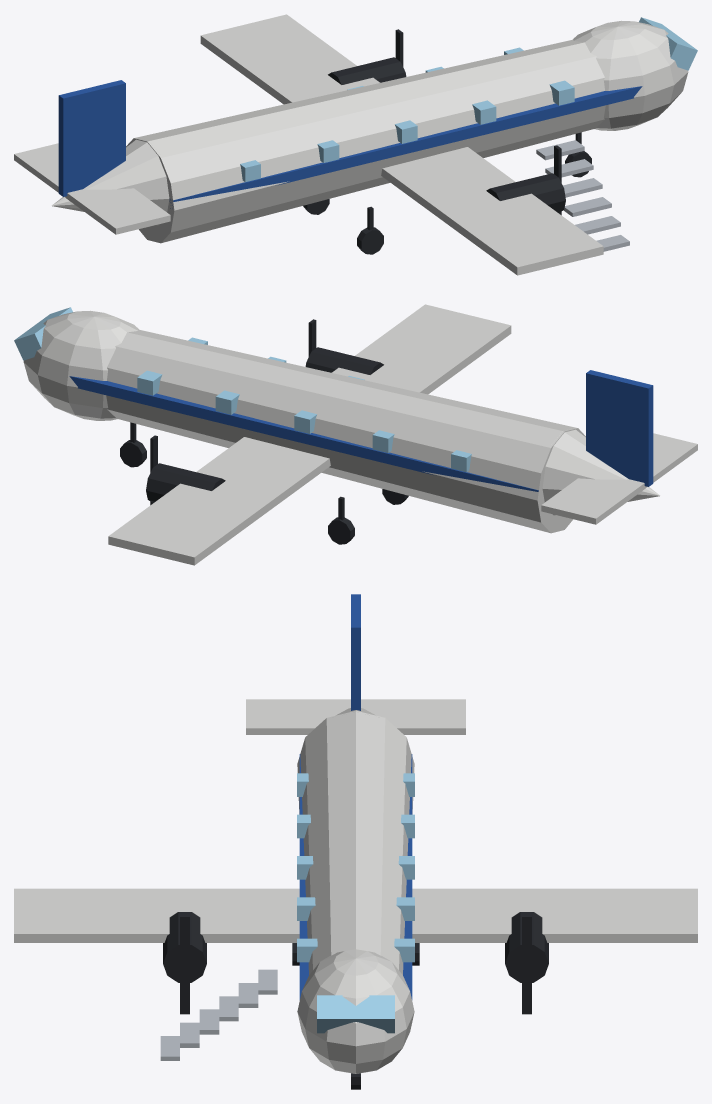
Rendered from airplane.glb.
3 views of the same model, one above another, from view 1: azimuth 30°, elevation 25°; view 2: azimuth 150°, elevation 25°; view 3: azimuth 270°, elevation 25° (orthographic). The views are drawn at different scales.
Visible parts, largest first — view 1: body_plane_white, wings_plane_white, tail_airport_blue, stripe_airport_blue, tail_plane_white, engine_airport_dark, stairs_stairs_grey (×5), windows_car_glass, gear_airport_dark, cockpit_car_glass, propeller_airport_dark; view 2: body_plane_white, wings_plane_white, tail_airport_blue, stripe_airport_blue, tail_plane_white, engine_airport_dark, windows_car_glass, gear_airport_dark, cockpit_car_glass, propeller_airport_dark; view 3: body_plane_white, wings_plane_white, tail_plane_white, engine_airport_dark, windows_car_glass, cockpit_car_glass, propeller_airport_dark, stripe_airport_blue, tail_airport_blue.
Boxes of the visible parts, x1=… form: body_plane_white: x1=51, y1=20, x2=688, y2=243; wings_plane_white: x1=200, y1=14, x2=603, y2=275; tail_airport_blue: x1=58, y1=80, x2=125, y2=196; stripe_airport_blue: x1=169, y1=86, x2=642, y2=208; tail_plane_white: x1=14, y1=143, x2=170, y2=234; engine_airport_dark: x1=328, y1=57, x2=565, y2=212; stairs_stairs_grey (×5): x1=536, y1=140, x2=620, y2=234; windows_car_glass: x1=240, y1=47, x2=574, y2=182; gear_airport_dark: x1=303, y1=132, x2=591, y2=254; cockpit_car_glass: x1=639, y1=17, x2=697, y2=70; propeller_airport_dark: x1=395, y1=29, x2=561, y2=215; body_plane_white: x1=23, y1=310, x2=660, y2=533; wings_plane_white: x1=108, y1=304, x2=511, y2=565; tail_airport_blue: x1=586, y1=370, x2=653, y2=486; stripe_airport_blue: x1=69, y1=376, x2=538, y2=491; tail_plane_white: x1=541, y1=433, x2=697, y2=524; engine_airport_dark: x1=146, y1=347, x2=383, y2=502; windows_car_glass: x1=137, y1=337, x2=471, y2=472; gear_airport_dark: x1=120, y1=422, x2=408, y2=544; cockpit_car_glass: x1=14, y1=307, x2=72, y2=360; propeller_airport_dark: x1=150, y1=319, x2=316, y2=505; body_plane_white: x1=297, y1=708, x2=414, y2=1073; wings_plane_white: x1=14, y1=888, x2=697, y2=942; tail_plane_white: x1=246, y1=699, x2=465, y2=734; engine_airport_dark: x1=163, y1=912, x2=548, y2=982; windows_car_glass: x1=297, y1=773, x2=414, y2=962; cockpit_car_glass: x1=317, y1=995, x2=394, y2=1033; propeller_airport_dark: x1=180, y1=915, x2=531, y2=1014; stripe_airport_blue: x1=299, y1=754, x2=412, y2=999; tail_airport_blue: x1=351, y1=594, x2=360, y2=710.
Size of the model in its own units: 16.13 by 5 by 14.
